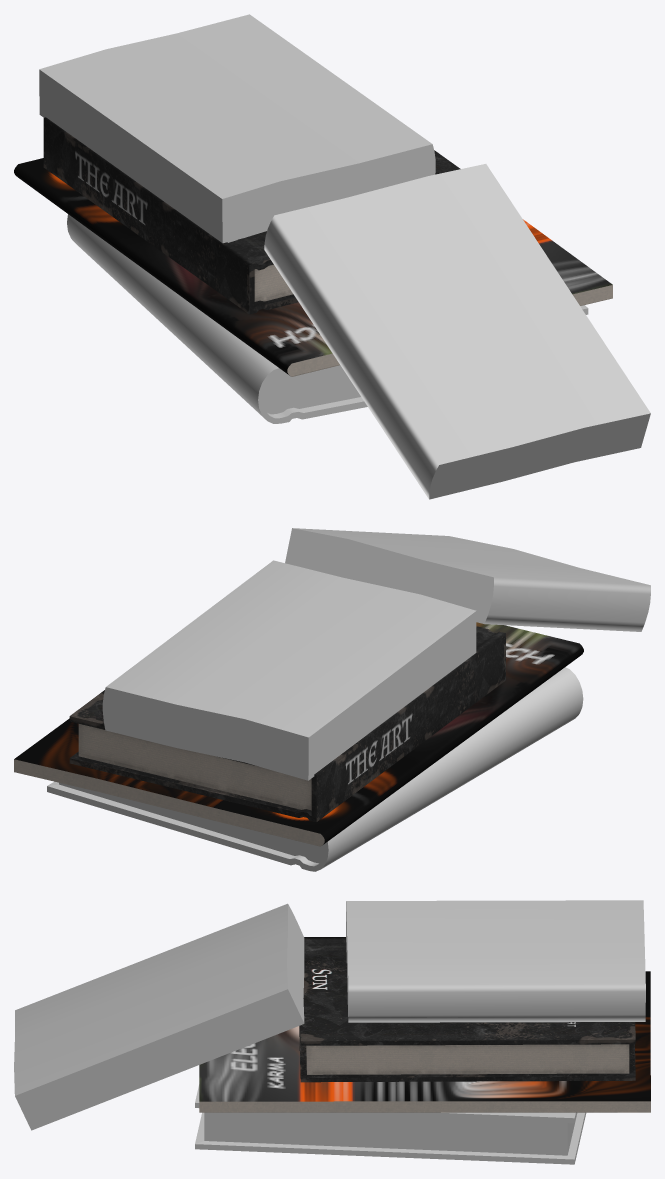
Rendered from SM_Book_Stack_07.FBX.
The picture shows the model from 3 angles, top to bottom: view 1: azimuth 30°, elevation 25°; view 2: azimuth 150°, elevation 25°; view 3: azimuth 270°, elevation 25°; orthographic projection. The views are drawn at different scales.
Parts seen in each view (by area): view 1: SM_Book_Stack_07_LOD0; view 2: SM_Book_Stack_07_LOD0; view 3: SM_Book_Stack_07_LOD0.
Boxes of the visible parts, <box> form: SM_Book_Stack_07_LOD0: <box>14,14,650,499</box>; SM_Book_Stack_07_LOD0: <box>14,528,650,871</box>; SM_Book_Stack_07_LOD0: <box>14,900,650,1164</box>.
Size of what is drawn, in the model's own units: 28.07 by 53.24 by 13.23.
